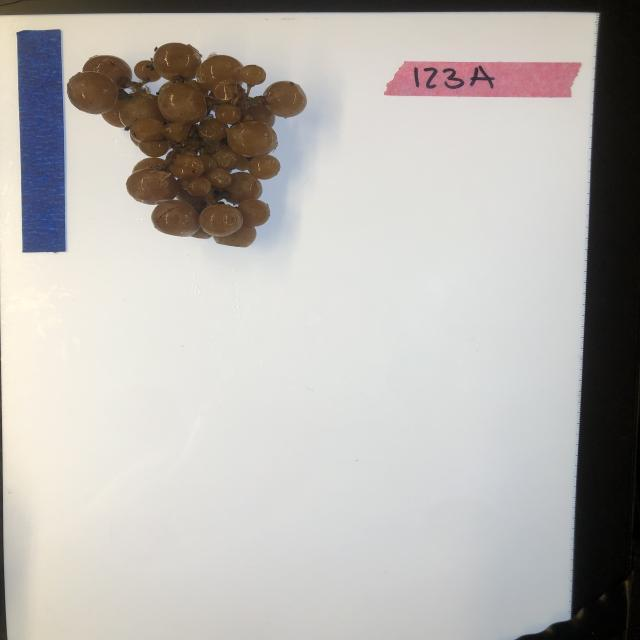grape_cluster: (69, 42, 309, 248)
index: (383, 56, 582, 103)
measure_label: (16, 28, 68, 253)
